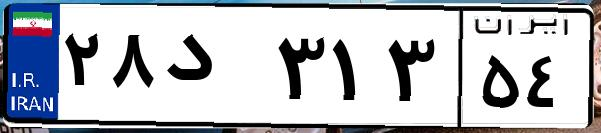1: (330, 28, 385, 110)
2: (57, 26, 110, 100)
3: (270, 28, 330, 110), (385, 28, 445, 110)
4: (525, 38, 570, 115)
5: (475, 38, 525, 113)
8: (110, 28, 158, 98)
د: (158, 20, 270, 120)
